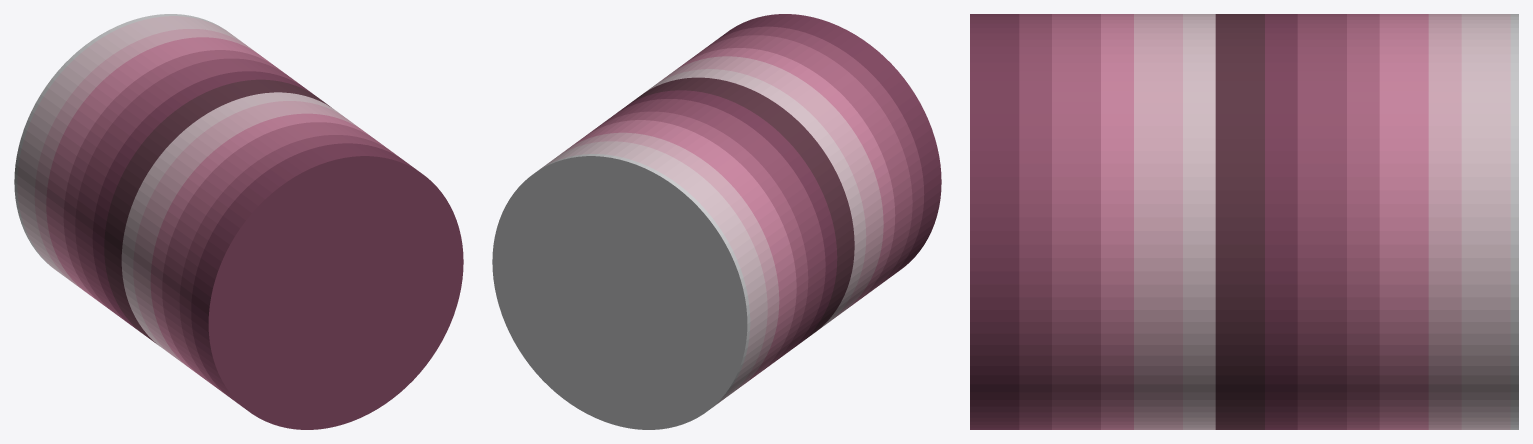
File: cake_10in_layers7.glb
The picture shows the model from 3 angles, left to right: view 1: azimuth 30°, elevation 25°; view 2: azimuth 150°, elevation 25°; view 3: azimuth 270°, elevation 25°; orthographic projection. The views are drawn at different scales.
Visible parts, largest first — view 1: geometry_12, geometry_4, geometry_8, geometry_6, geometry_2, geometry_0, geometry_10, geometry_9, geometry_5, geometry_3, geometry_7, geometry_11 (+2 smaller); view 2: geometry_13, geometry_6, geometry_8, geometry_10, geometry_0, geometry_2, geometry_4, geometry_12, geometry_3, geometry_1, geometry_5, geometry_7 (+2 smaller); view 3: geometry_0, geometry_2, geometry_4, geometry_6, geometry_12, geometry_8, geometry_10, geometry_1, geometry_3, geometry_5, geometry_7, geometry_9 (+2 smaller).
Boxes of the visible parts, x1,y1,x2,y2 form: geometry_12: (191, 143, 463, 429); geometry_4: (75, 58, 302, 322); geometry_8: (133, 101, 360, 365); geometry_6: (104, 79, 331, 344); geometry_2: (46, 37, 272, 301); geometry_0: (17, 16, 244, 280); geometry_10: (162, 122, 388, 386); geometry_9: (150, 113, 372, 373); geometry_5: (92, 71, 313, 332); geometry_3: (63, 50, 283, 310); geometry_7: (121, 92, 342, 352); geometry_11: (179, 135, 401, 395); geometry_13: (492, 154, 750, 429); geometry_6: (627, 77, 854, 342); geometry_8: (657, 56, 883, 321); geometry_10: (685, 35, 912, 299); geometry_0: (540, 141, 767, 405); geometry_2: (570, 120, 796, 384); geometry_4: (598, 99, 825, 363); geometry_12: (714, 14, 941, 279); geometry_3: (586, 111, 808, 372); geometry_1: (557, 132, 779, 392); geometry_5: (616, 90, 837, 351); geometry_7: (644, 69, 866, 329); geometry_0: (1461, 14, 1510, 429); geometry_2: (1379, 14, 1428, 429); geometry_4: (1297, 14, 1346, 429); geometry_6: (1215, 14, 1264, 429); geometry_12: (970, 14, 1019, 429); geometry_8: (1134, 14, 1182, 429); geometry_10: (1052, 14, 1100, 429); geometry_1: (1428, 14, 1461, 429); geometry_3: (1347, 14, 1379, 429); geometry_5: (1265, 14, 1297, 429); geometry_7: (1183, 14, 1215, 429); geometry_9: (1101, 14, 1133, 429).
Size of the model in its own units: 0.254 by 0.254 by 0.335.
